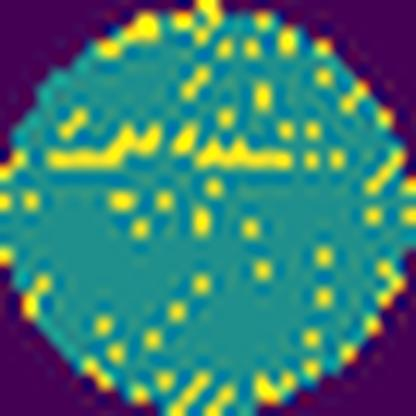Scratch: (44, 117, 164, 174), (187, 131, 296, 177)
